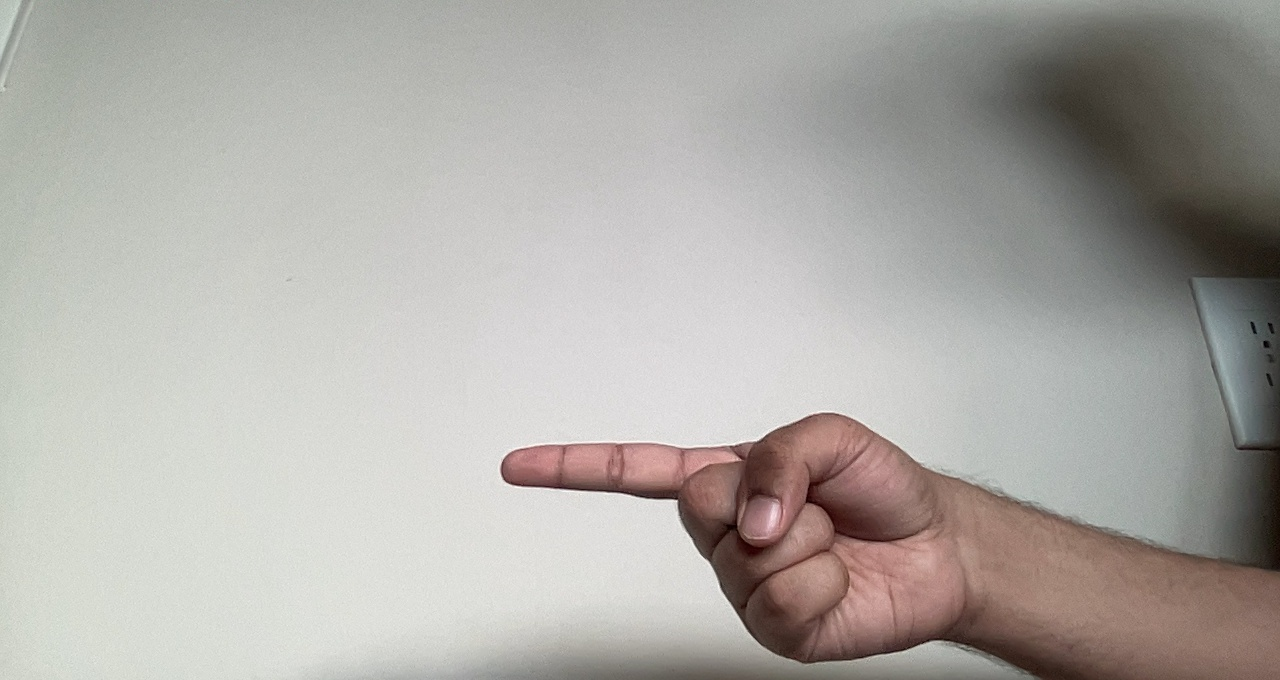fingerright: (495, 406, 942, 664)
